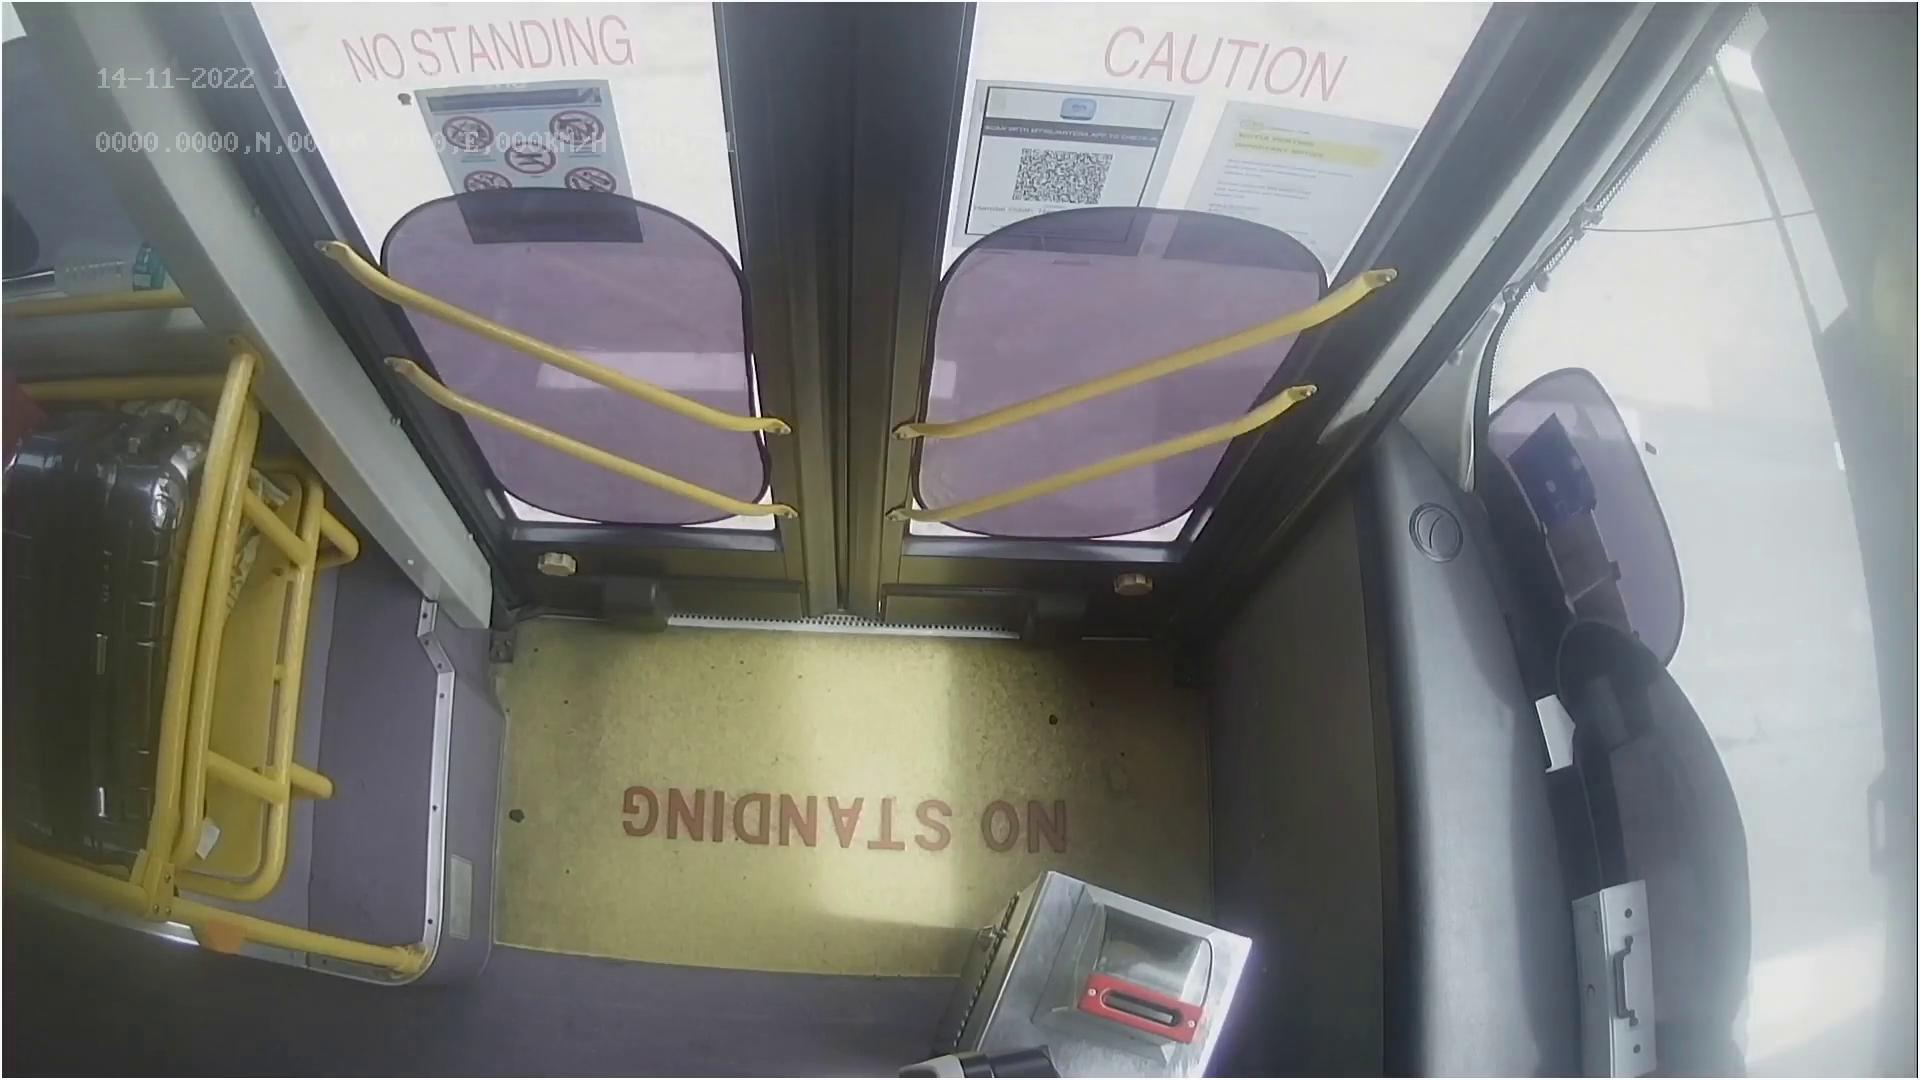close: (290, 0, 1444, 157)
